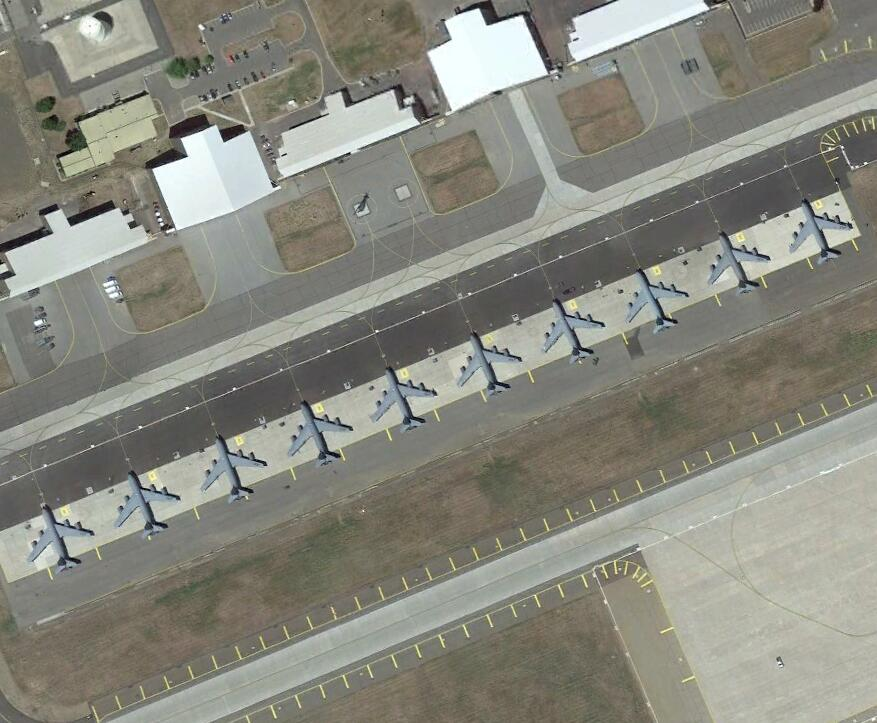A14: (25, 503, 96, 572), (198, 436, 268, 503), (114, 472, 181, 539), (787, 199, 853, 267), (287, 401, 353, 469), (704, 231, 773, 296), (368, 367, 437, 431), (454, 331, 523, 394), (624, 269, 689, 333), (541, 299, 605, 364)
